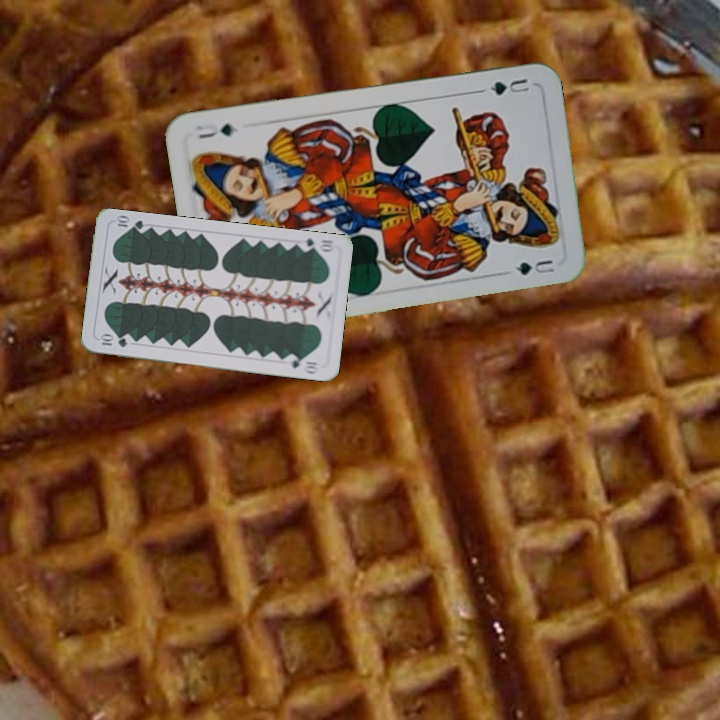G10: (296, 234, 337, 255), (96, 332, 130, 350)
GU: (486, 74, 532, 98)
